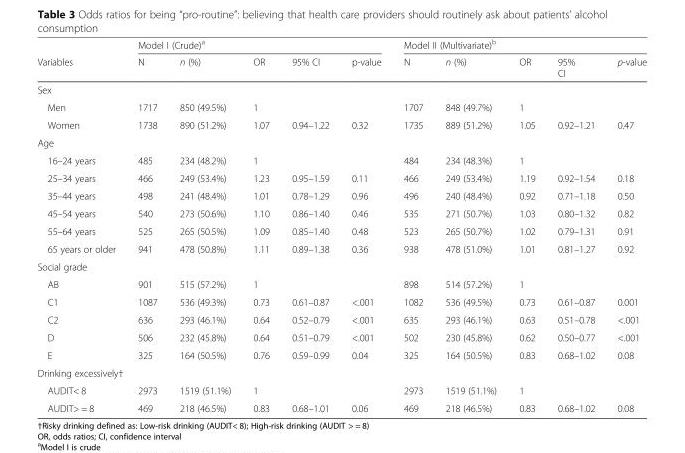table: (36, 37, 646, 413)
table column: (36, 37, 126, 413), (167, 37, 241, 413), (433, 37, 507, 413), (545, 37, 605, 413), (280, 37, 339, 413), (339, 37, 391, 413), (391, 37, 433, 413), (126, 37, 167, 413), (605, 37, 646, 413), (241, 37, 280, 413), (507, 37, 545, 413)
table column header: (36, 37, 646, 80)
table projected row header: (36, 80, 646, 98), (36, 133, 646, 151), (36, 257, 646, 275), (36, 363, 646, 381)
table row: (36, 52, 646, 80), (36, 80, 646, 98), (36, 115, 646, 133), (36, 133, 646, 151), (36, 168, 646, 186), (36, 186, 646, 204), (36, 204, 646, 222), (36, 239, 646, 257), (36, 257, 646, 275), (36, 292, 646, 310), (36, 310, 646, 328), (36, 345, 646, 363), (36, 363, 646, 381), (36, 381, 646, 399), (36, 98, 646, 115), (36, 151, 646, 168), (36, 222, 646, 239), (36, 275, 646, 292), (36, 328, 646, 345), (36, 37, 646, 52), (36, 399, 646, 413)
table spanning cell: (126, 37, 391, 52), (36, 37, 126, 80), (391, 37, 646, 52)
